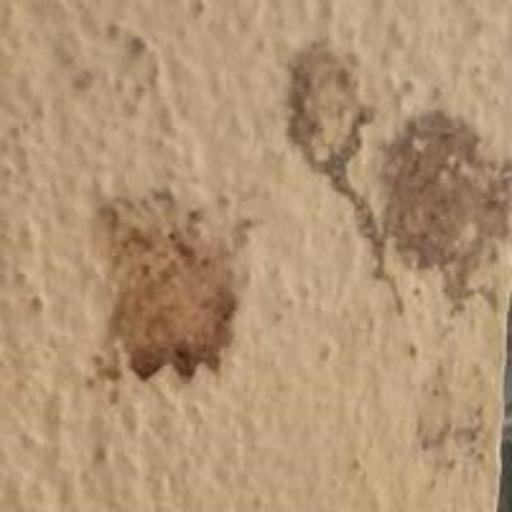stain: (278, 17, 512, 343), (47, 154, 273, 433), (390, 341, 512, 476)
